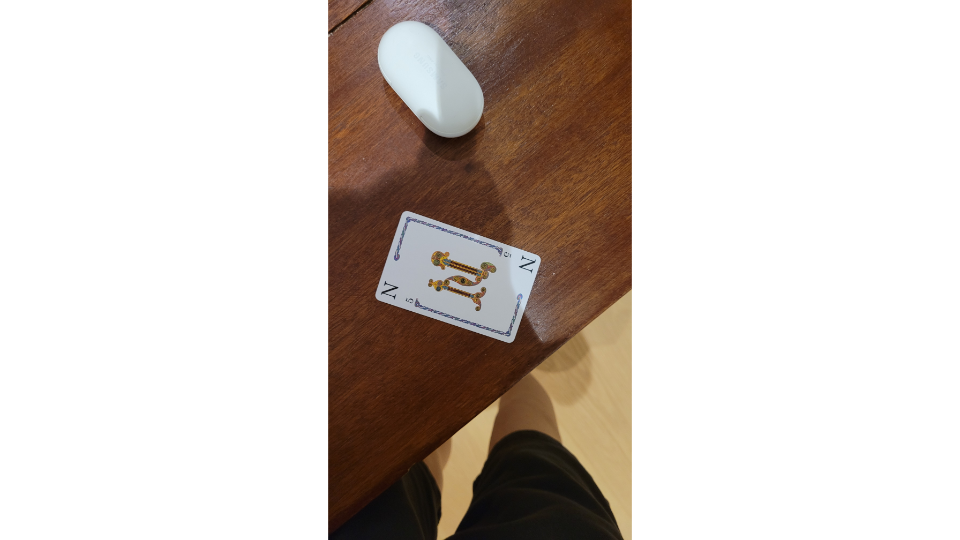N: (369, 206, 547, 346)
